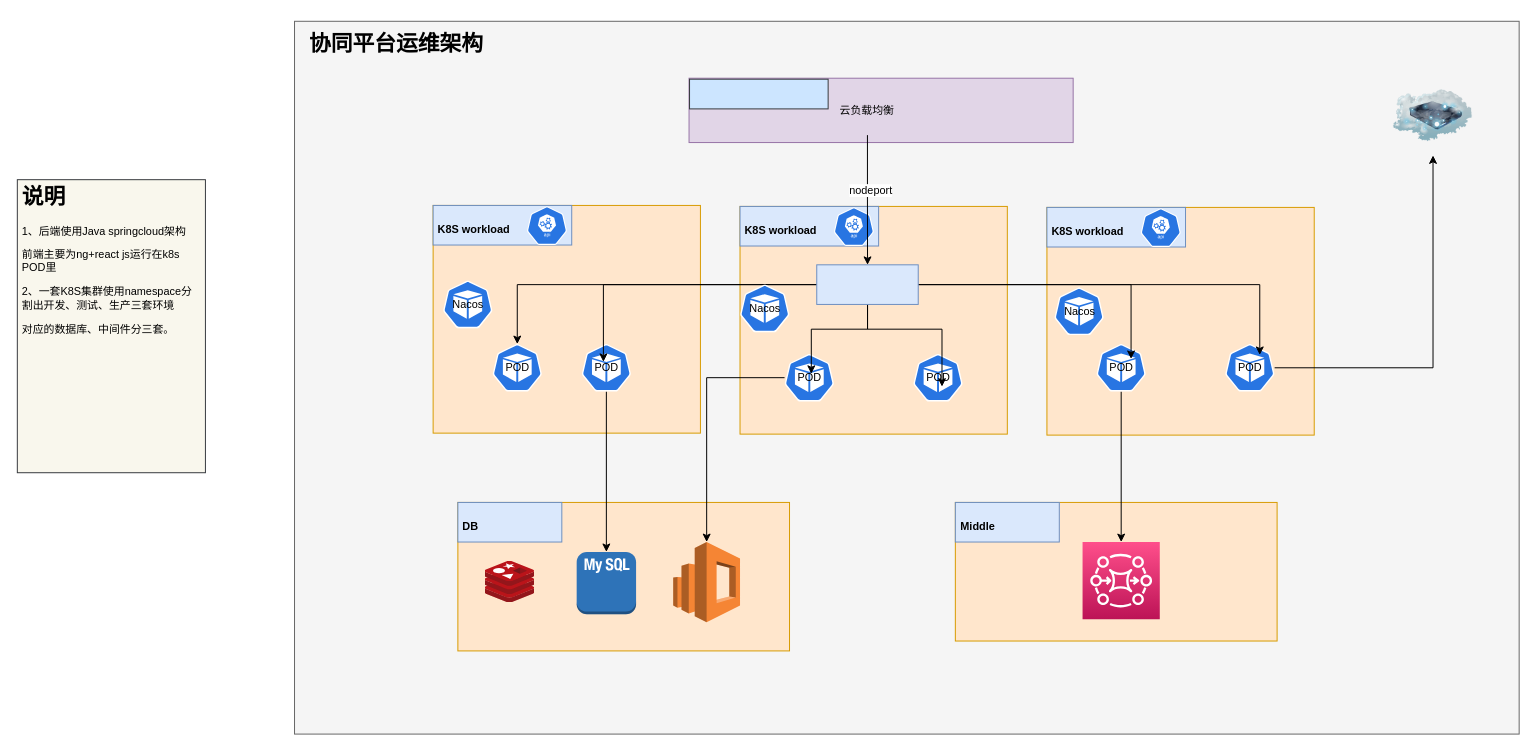
Image size: 1536x751. Some labels were removed from this diagram. The shapes that lost their labels are listed below. From the top down, each one's box as (x1, y1, x2, y2) in pixels, then its label:
(689, 78, 828, 109): Loadblance
(1393, 76, 1472, 155): 对象存储
(816, 264, 918, 304): INGRESS-NG
(485, 561, 534, 602): Redis
(672, 541, 740, 622): ES
(1082, 541, 1160, 619): rabbitmq
